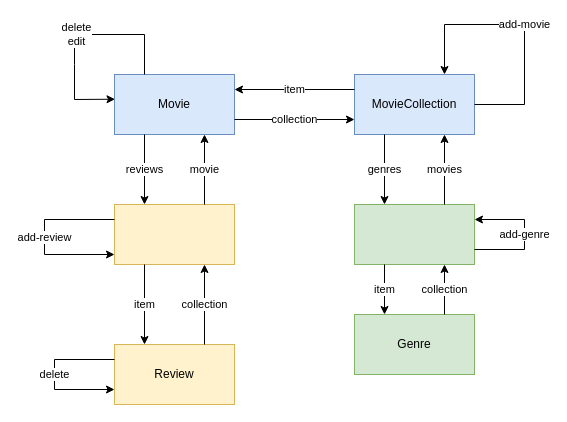
The diagram is 567 pixels wide and 422 high, and some of its shapes have lost their labels. Here are the shapes that lost their labels. From the top down, the centre of each, then its label:
(174,234): ReviewCollection
(414,234): GenreCollection
